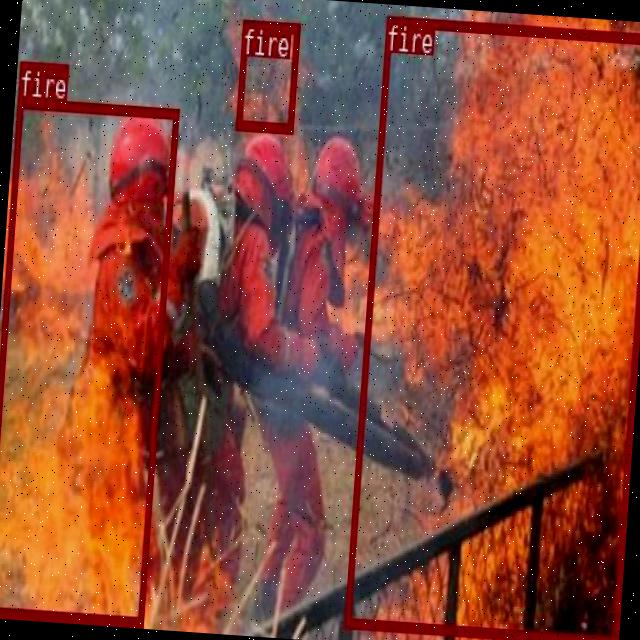fire: (342, 13, 640, 640), (0, 95, 177, 624), (235, 18, 300, 132)
